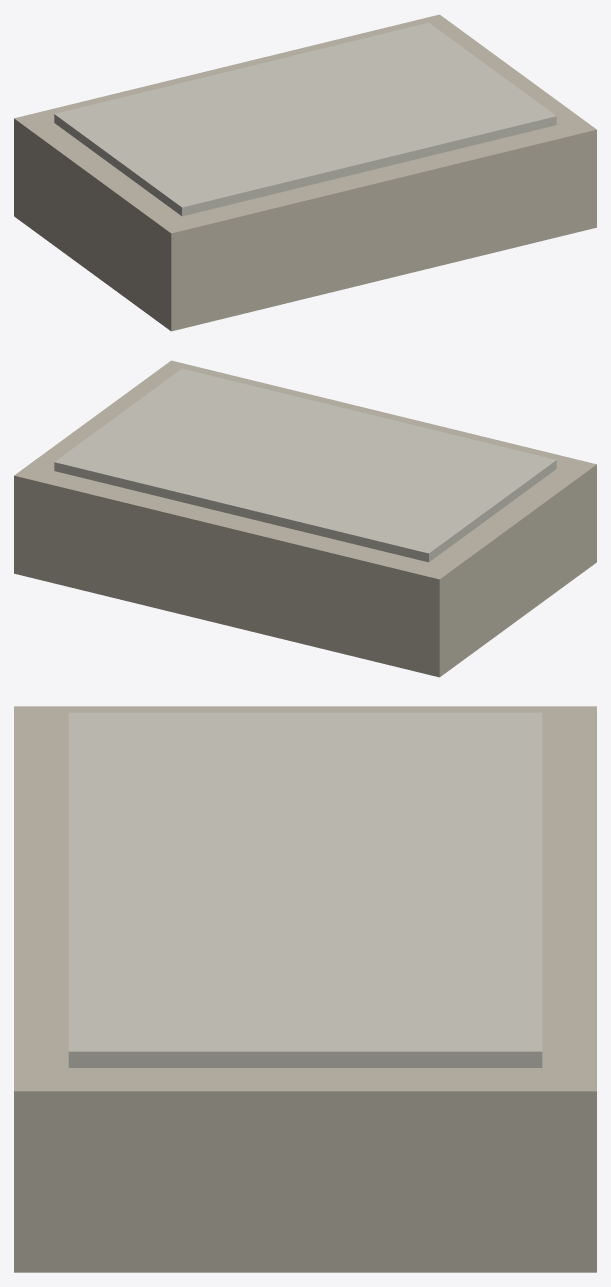
Rendered from pillow.glb.
3 renders of one model, top to bottom at view 1: azimuth 30°, elevation 25°; view 2: azimuth 150°, elevation 25°; view 3: azimuth 270°, elevation 25°, orthographic. The views are drawn at different scales.
Visible parts, largest first — view 1: body; view 2: body; view 3: body.
Boxes of the visible parts, x1,y1,x2,y2 form: body: (14, 14, 596, 331); body: (14, 360, 596, 677); body: (14, 706, 596, 1272).
Bounding box in the file's own units: 0.5 × 0.12 × 0.32.
